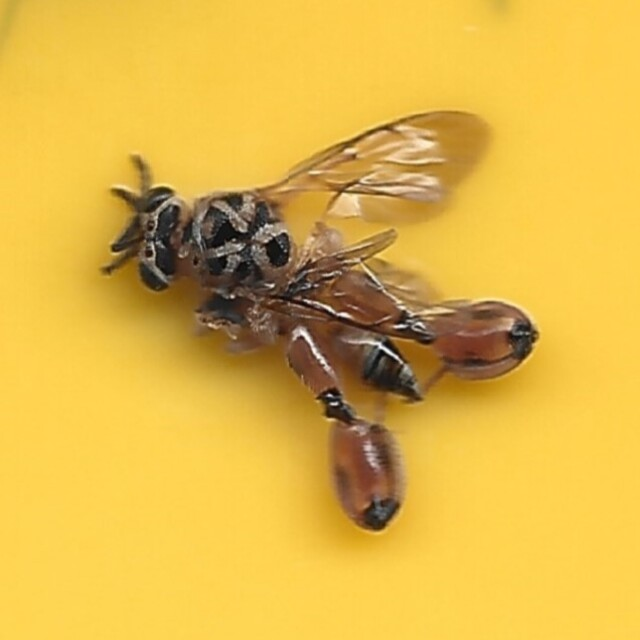Hymenoptera: (101, 108, 539, 532)
